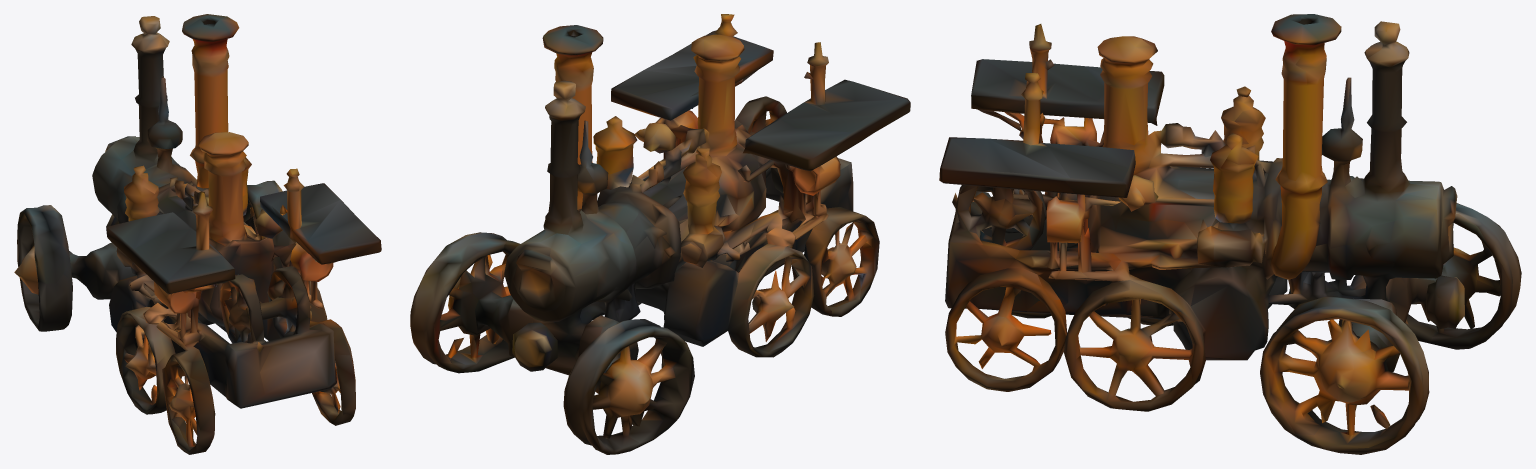
File: 5885560-steampunk-tractor-10k.glb
3 renders of one model, left to right at view 1: azimuth 30°, elevation 25°; view 2: azimuth 150°, elevation 25°; view 3: azimuth 270°, elevation 25°, orthographic. The views are drawn at different scales.
Parts seen in each view (by area): view 1: node0; view 2: node0; view 3: node0.
Boxes of the visible parts, <box> form: node0: <box>14,14,381,454</box>; node0: <box>410,14,910,454</box>; node0: <box>939,14,1521,454</box>.
Bounding box in the file's own units: 0.6481 × 0.6925 × 0.9516.
